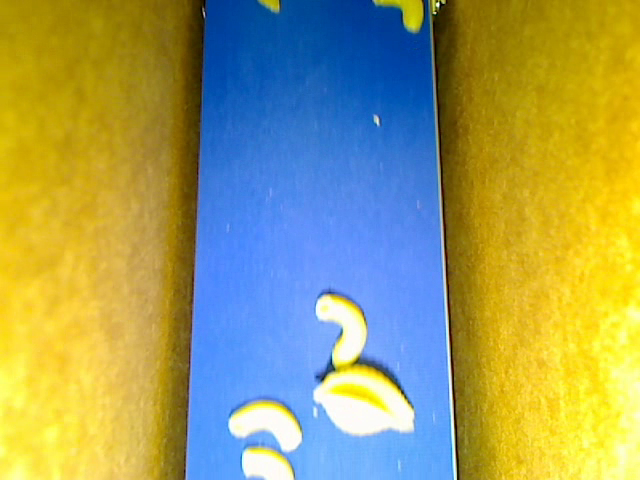elbow: (312, 293, 368, 369), (227, 398, 302, 451), (240, 445, 294, 479), (372, 1, 424, 35)
shell: (312, 363, 415, 438)
